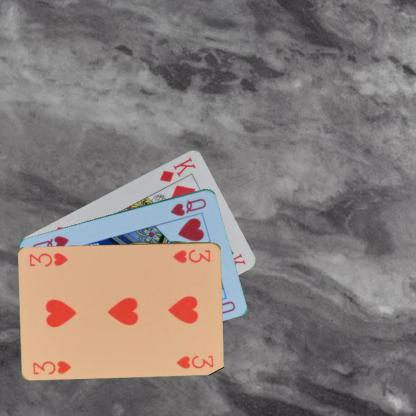3h: (170, 246, 212, 264), (30, 358, 72, 376)
Kd: (157, 154, 198, 183)
Qh: (168, 196, 208, 218)
